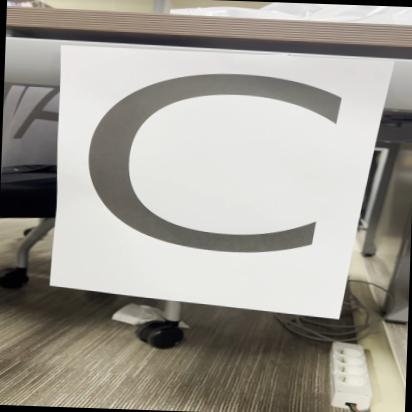seat: (71, 44, 378, 310)
